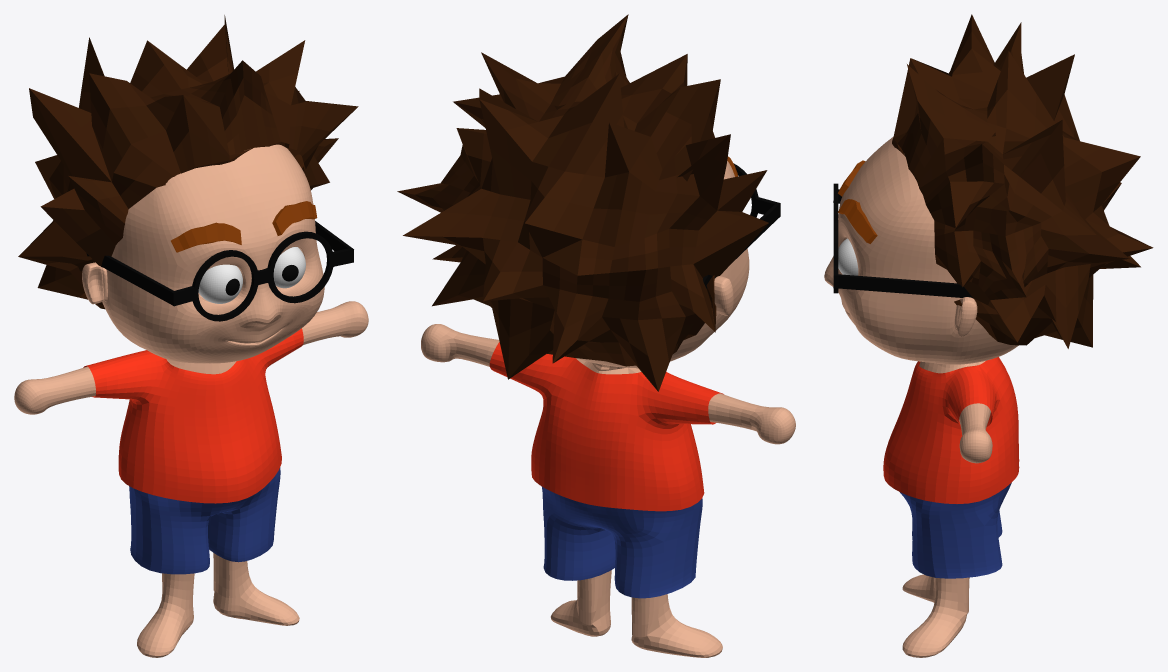
Rendered from maleCharModel4_lowres.fbx.
3 views of the same model, side by side, from view 1: azimuth 30°, elevation 25°; view 2: azimuth 150°, elevation 25°; view 3: azimuth 270°, elevation 25° (orthographic). The views are drawn at different scales.
Visible parts, largest first — view 1: Body, Hair, Shirt, Shorts, Glasses, Eye.L, Eyebrows; view 2: Hair, Shirt, Body, Shorts, Glasses; view 3: Hair, Body, Shirt, Shorts, Glasses, Eyebrows, Eye.L.
Boxes of the visible parts, box(x1,y1,x2,y2) form: Body: box(14, 144, 368, 657); Hair: box(18, 15, 358, 309); Shirt: box(83, 328, 303, 503); Shorts: box(129, 467, 280, 574); Glasses: box(86, 221, 353, 321); Eye.L: box(198, 247, 305, 303); Eyebrows: box(171, 201, 317, 252); Hair: box(397, 14, 768, 391); Shirt: box(489, 342, 723, 511); Body: box(421, 161, 795, 657); Shorts: box(541, 486, 702, 598); Glasses: box(703, 163, 780, 288); Hair: box(892, 14, 1153, 348); Body: box(824, 137, 1018, 657); Shirt: box(883, 357, 1019, 503); Shorts: box(900, 482, 1011, 578); Glasses: box(833, 183, 972, 297); Eyebrows: box(838, 160, 877, 243); Eye.L: box(838, 238, 858, 275).
Bounding box in the file's own units: 844 × 1336 × 704.
